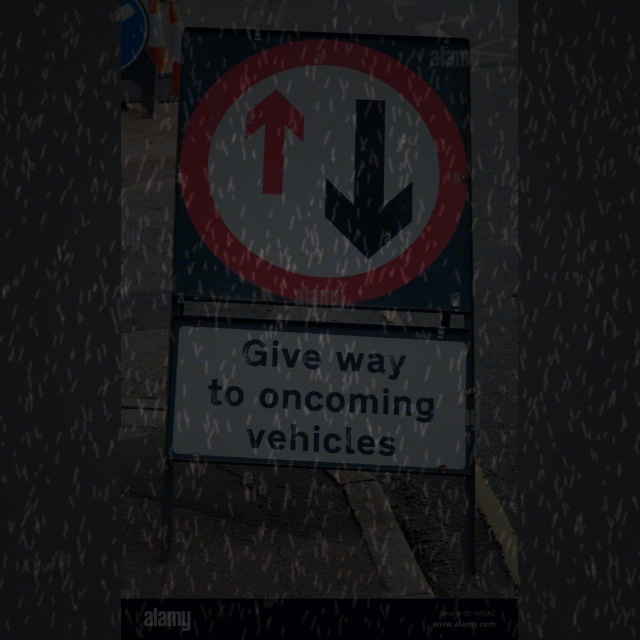Priority_for_Oncoming_Traffic: (181, 38, 472, 306)
